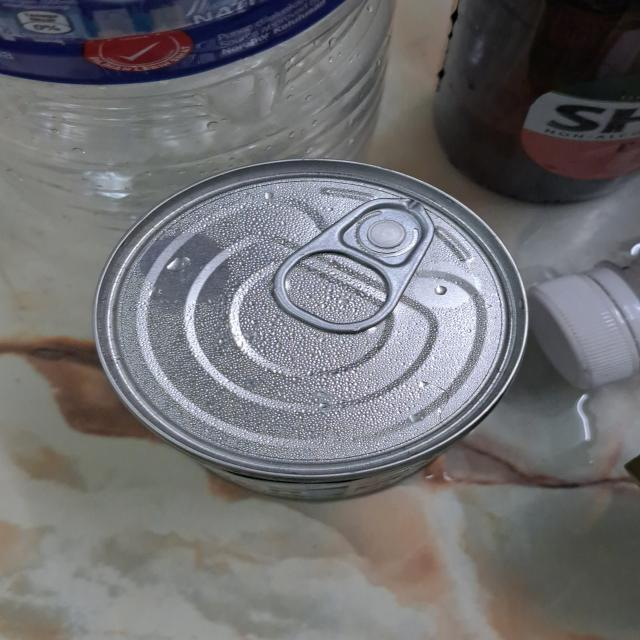can: (94, 159, 530, 502)
glass bottle: (430, 0, 639, 206)
plastic bottle: (0, 0, 393, 235)
plastic bottle cap: (533, 272, 640, 391)
pop tab: (274, 197, 434, 334)
